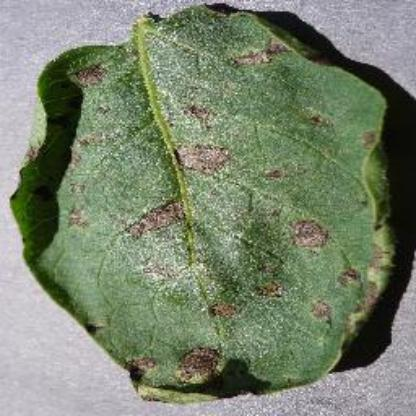Early-Blight: (12, 0, 416, 406)
